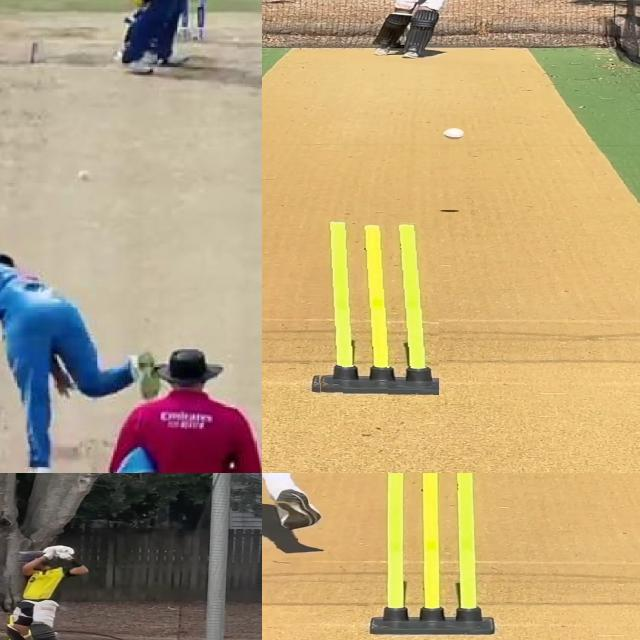Cricket ball: (438, 126, 472, 141), (78, 169, 92, 182)
Stumps: (311, 219, 439, 395)
